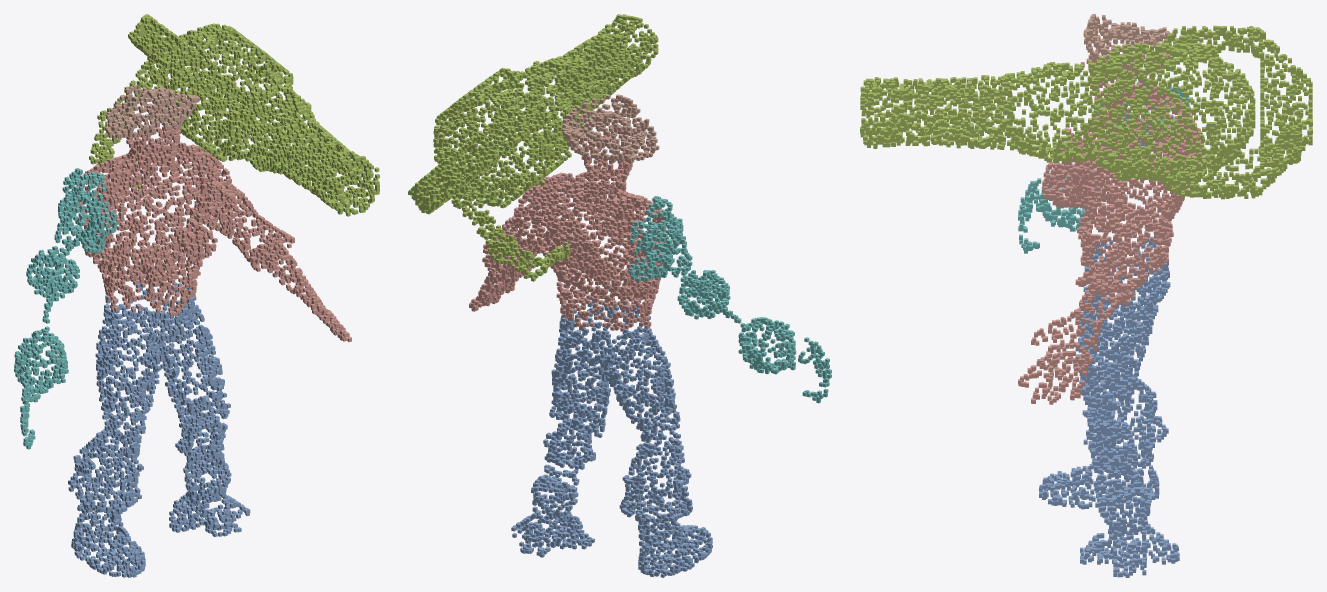
File: character-1.glb
3 views of the same model, side by side, from view 1: azimuth 30°, elevation 25°; view 2: azimuth 150°, elevation 25°; view 3: azimuth 270°, elevation 25° (orthographic). The views are drawn at different scales.
Visible parts, largest first — view 1: world; view 2: world; view 3: world.
Boxes of the visible parts, x1,y1,x2,y2 form: world: (14, 14, 379, 577); world: (408, 14, 831, 577); world: (860, 14, 1312, 577).
Bounding box in the file's own units: 1.12 × 1.47 × 1.14.
